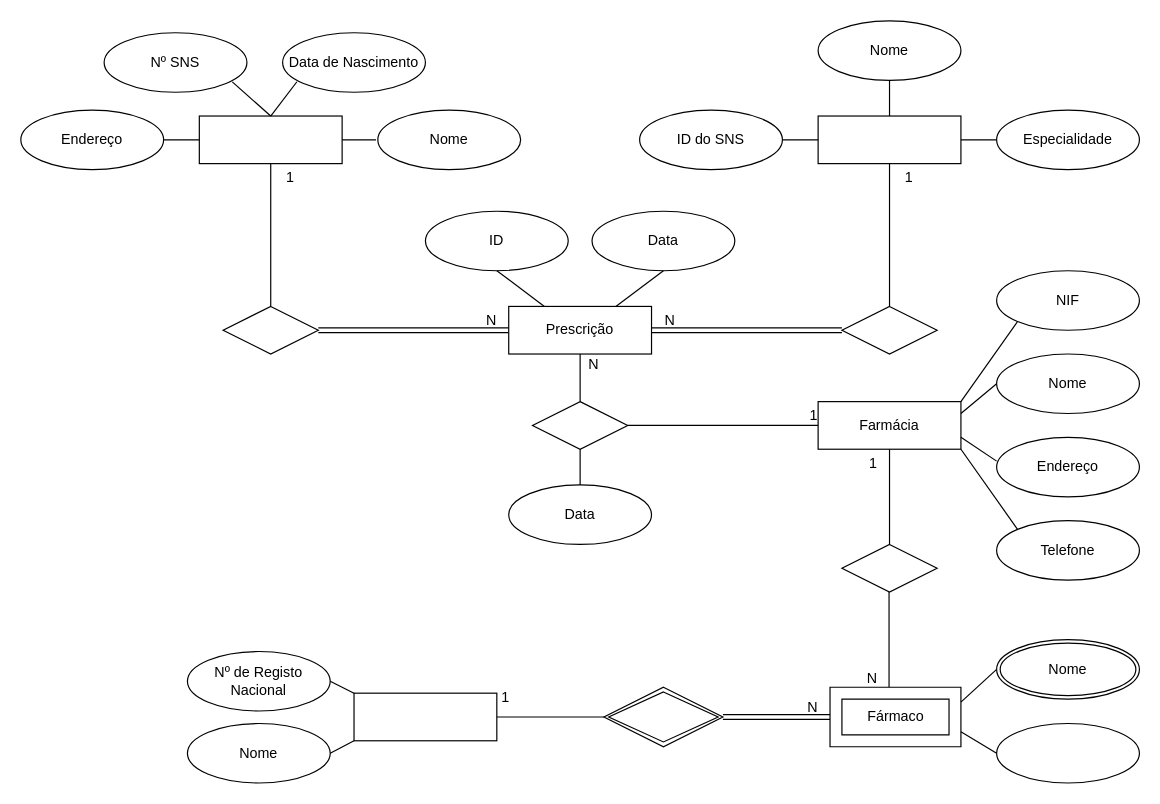
This 1160x804 diagram has some shape labels left out. Each missing label, with the centre of its shape:
"Farmacêutica" goes at pixel 425 716.
"Fórmula" goes at pixel 1067 752.
"Médico" goes at pixel 889 139.
"Paciente" goes at pixel 270 139.
"Prescreve" goes at pixel 889 329.
"Processa" goes at pixel 579 424.
"Produz" goes at pixel 663 716.
"Requisita" goes at pixel 270 329.
"Vende" goes at pixel 889 567.
